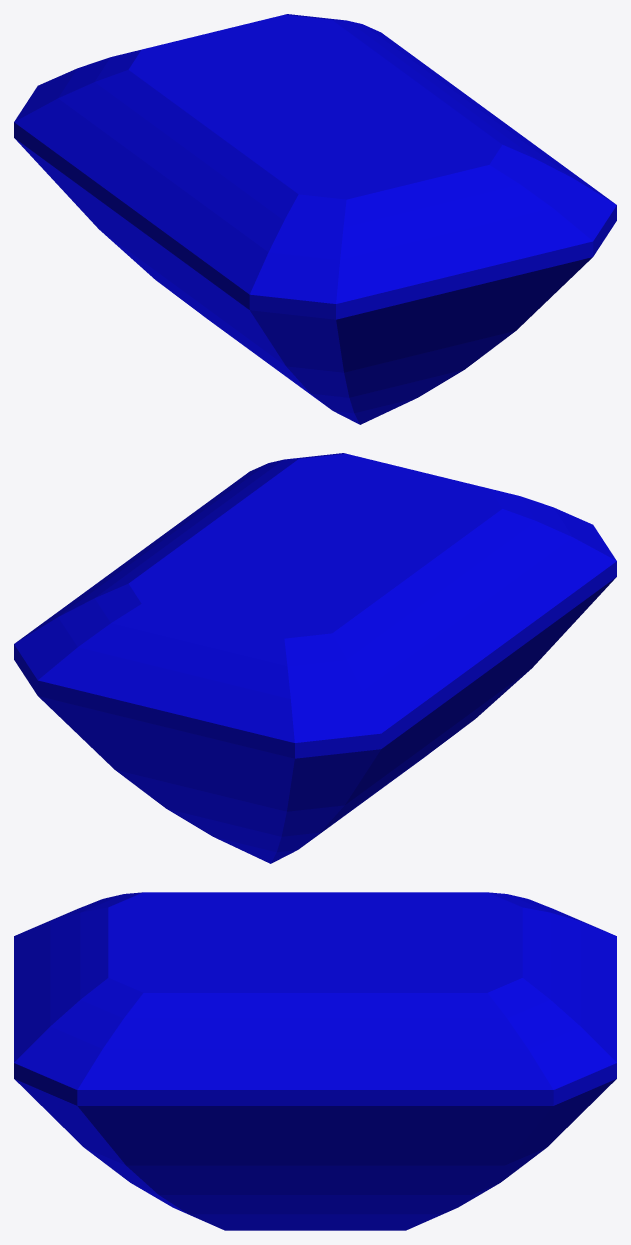
Rendered from Head_Hidden Halo_Emerald_2.0ct_Diamond.glb.
3 views of the same model, one above another, from view 1: azimuth 30°, elevation 25°; view 2: azimuth 150°, elevation 25°; view 3: azimuth 270°, elevation 25° (orthographic).
Bounding box in the file's own units: 0.00593 × 0.0044 × 0.00834.
